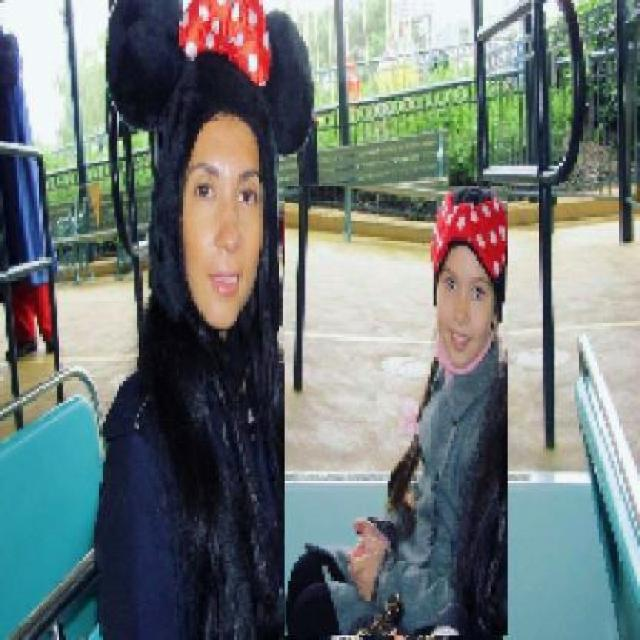child: (283, 186, 508, 637)
